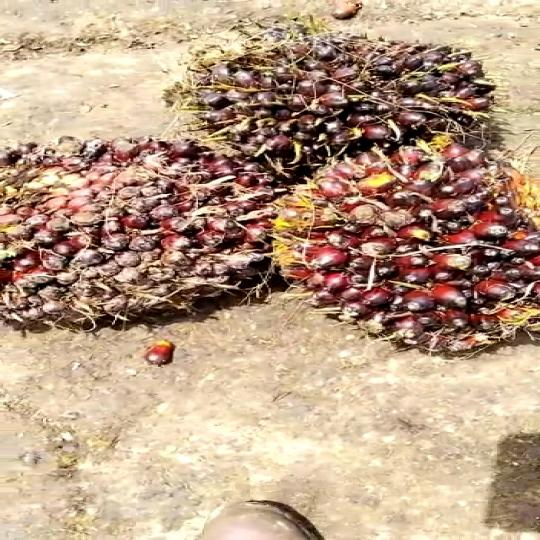kurang masak: (258, 135, 540, 353), (0, 127, 301, 310), (142, 29, 518, 175)
